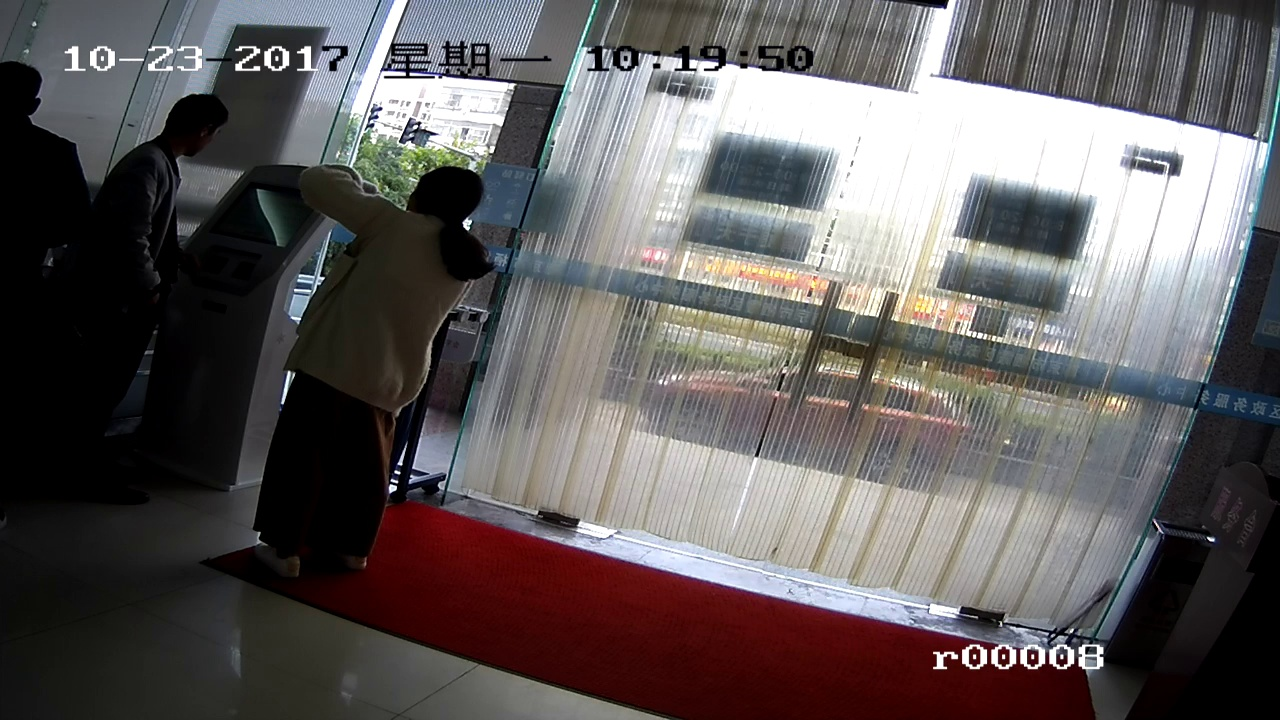monitor: (206, 182, 322, 248)
person: (288, 156, 465, 615), (65, 86, 223, 506)
